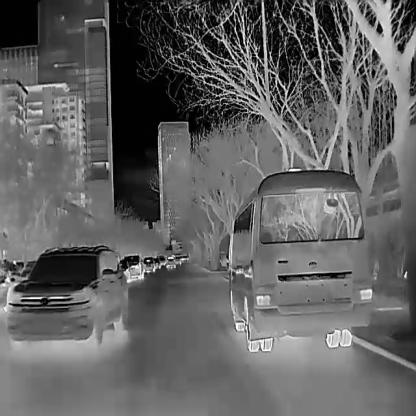bus: (227, 166, 375, 352)
car: (5, 242, 127, 350), (128, 254, 142, 279), (142, 255, 155, 273), (166, 256, 175, 269)
